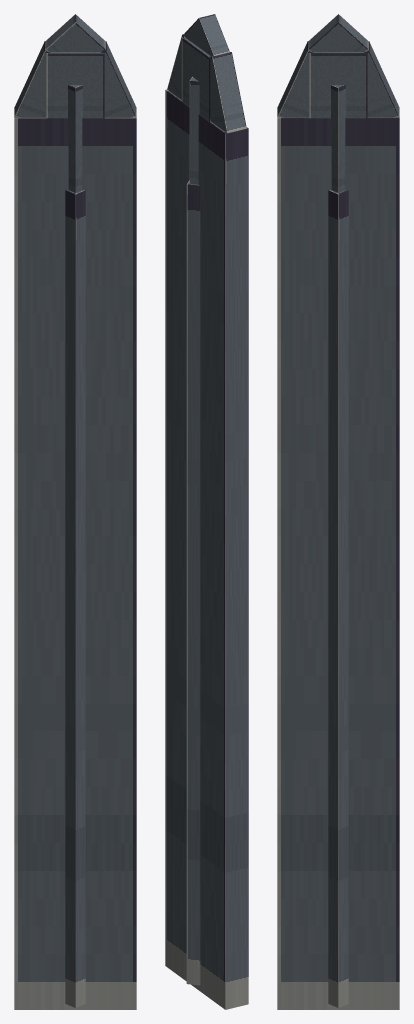
File: workpiece_qingfeng_sword_tempered.obj
3 renders of one model, left to right at view 1: azimuth 90°, elevation 25°; view 2: azimuth 210°, elevation 25°; view 3: azimuth 270°, elevation 25°, orthographic.
Parts seen in each view (by area): view 1: geometry; view 2: geometry; view 3: geometry.
Boxes of the visible parts, x1,y1,x2,y2 form: geometry: (14,14,136,1009); geometry: (165,14,248,1009); geometry: (277,14,399,1009).
Bounding box in the file's own units: 0.0438 × 1 × 0.1125.
